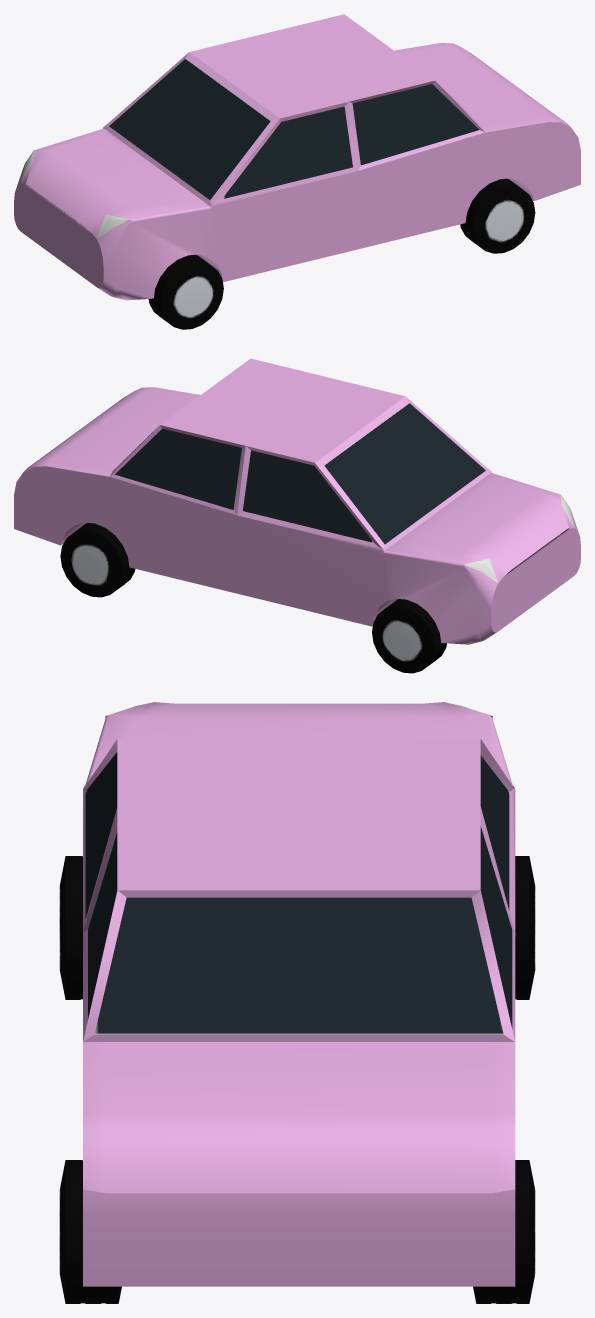
Rendered from PinkCar.fbx.
The picture shows the model from 3 angles, top to bottom: view 1: azimuth 30°, elevation 25°; view 2: azimuth 150°, elevation 25°; view 3: azimuth 270°, elevation 25°; orthographic projection. The views are drawn at different scales.
Visible parts, largest first — view 1: UVMapCar:RoadKillOut; view 2: UVMapCar:RoadKillOut; view 3: UVMapCar:RoadKillOut.
Part boxes in pixels (box(x1,y1,x2,y2)): UVMapCar:RoadKillOut: box(14, 14, 580, 329); UVMapCar:RoadKillOut: box(14, 358, 580, 673); UVMapCar:RoadKillOut: box(59, 702, 535, 1303).
Bounding box in the file's own units: 7.82 × 2.8 × 3.42.
